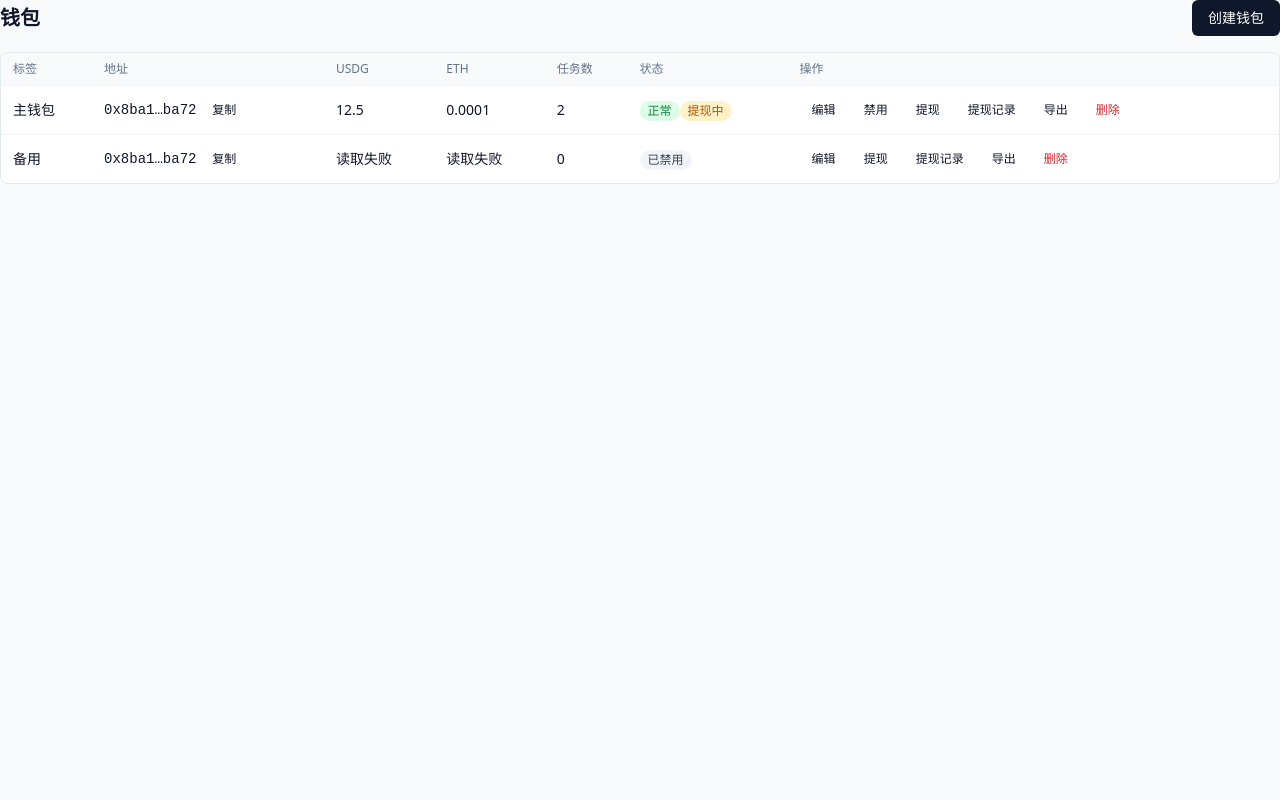
Test case: creates a wallet and shows the new address with the funding hint
The width and height of the screenshot is (1280, 800).
Click the button "创建钱包" at (1236,18), box 1192,0 -> 1279,36
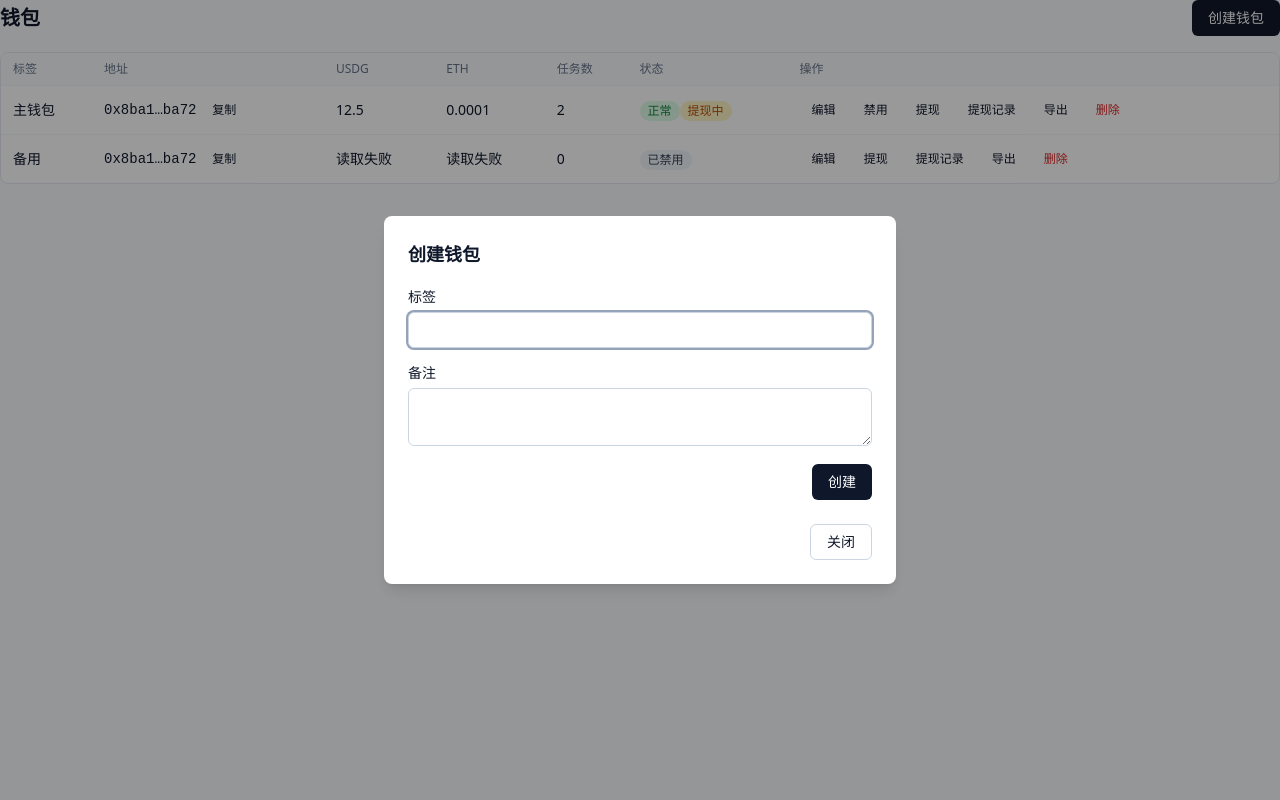
Type "新钱包" into the field labelled "标签" at (640,330), box 408,312 -> 872,348
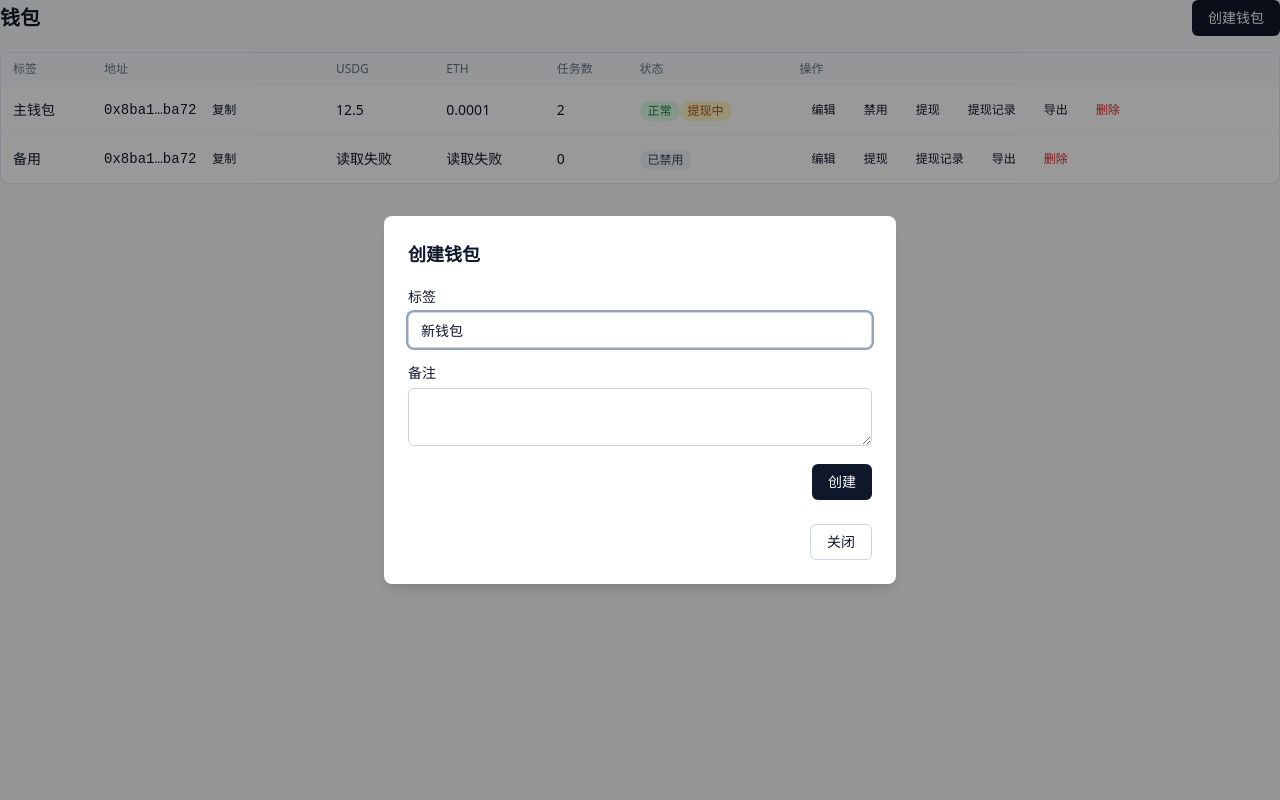
Click the button "创建" at (842,482), box 812,464 -> 872,500
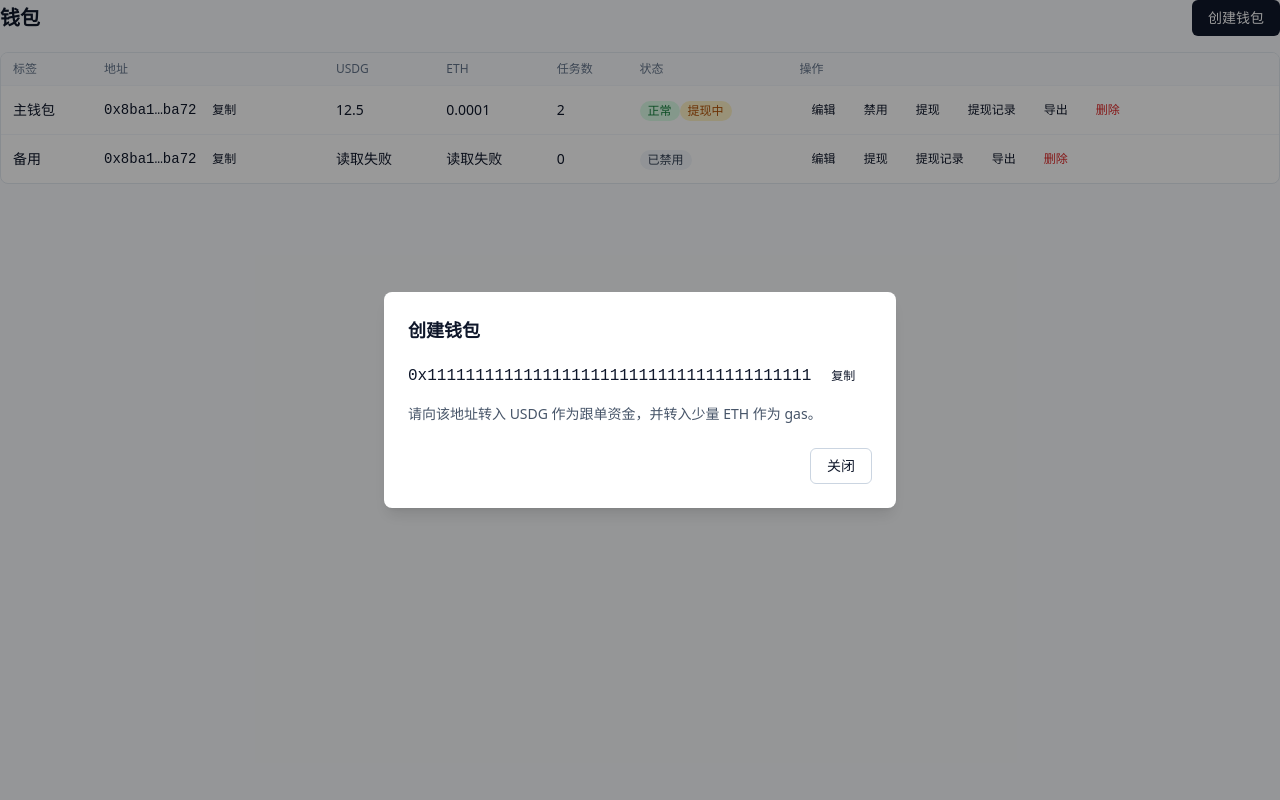
Now the text "0x1111111111111111111111111111111111111111" is shown, box 408,364 -> 811,388
Now the text "请向该地址转入 USDG 作为跟单资金，并转入少量 ETH 作为 gas。" is shown, box 408,404 -> 872,424
